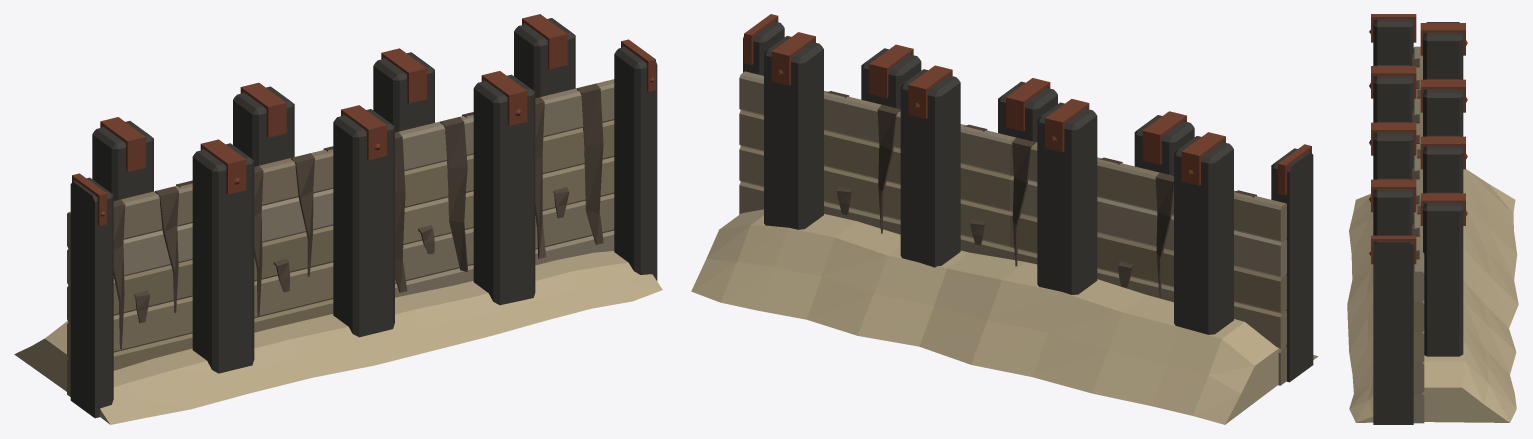
Rendered from groyne-run-971623.glb.
The picture shows the model from 3 angles, left to right: view 1: azimuth 30°, elevation 25°; view 2: azimuth 150°, elevation 25°; view 3: azimuth 270°, elevation 25°; orthographic projection. The views are drawn at different scales.
Parts seen in each view (by area): view 1: groyne-body, groyne-mid-piles; view 2: groyne-body, groyne-mid-piles; view 3: groyne-body, groyne-mid-piles.
Part boxes in pixels (<box>): groyne-body: <box>14,14,662,424</box>; groyne-mid-piles: <box>333,48,434,337</box>; groyne-body: <box>691,14,1318,424</box>; groyne-mid-piles: <box>900,65,1057,267</box>; groyne-body: <box>1347,14,1518,424</box>; groyne-mid-piles: <box>1369,122,1467,193</box>.
Size of the model in its own units: 4 by 1.64 by 1.28.
